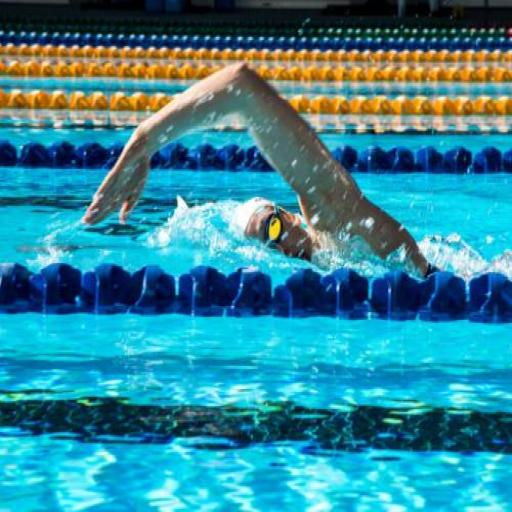swimming: (79, 58, 441, 280)
